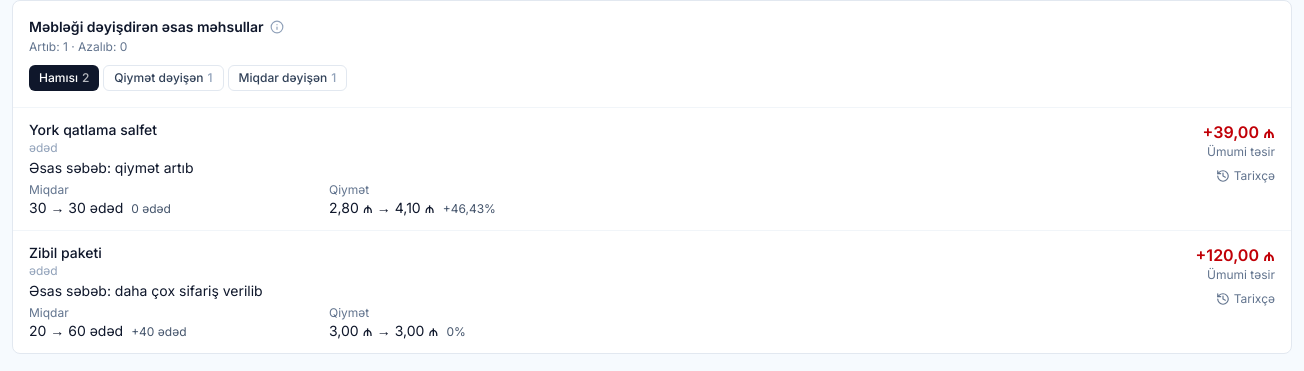
Test: the filters › keeps a price-only change out of the quantity filter
Step 1. Click the button "Miqdar dəyişən1" → (287, 78), box x1=228 y1=65 x2=347 y2=91
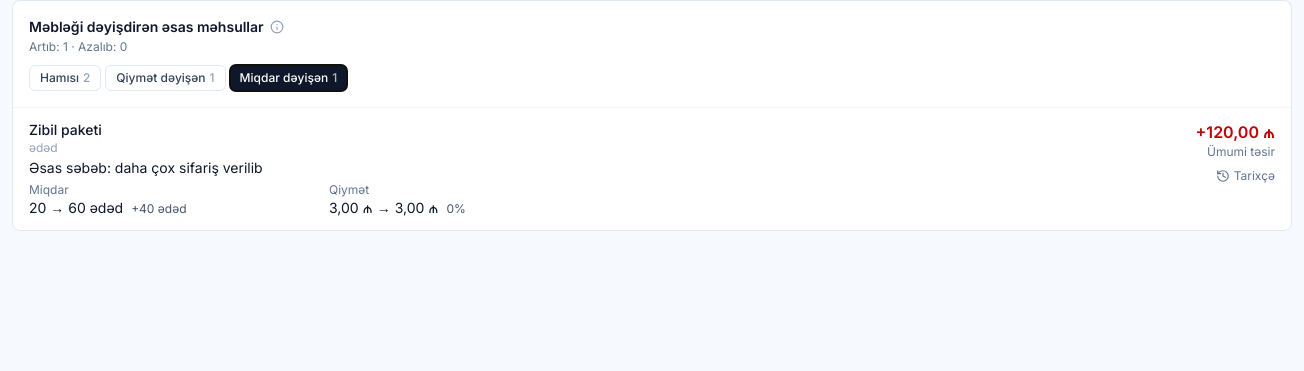
Expected: the text "Zibil paketi" is shown, x1=29 y1=120 x2=102 y2=140
Expected: the button "York qatlama salfet" is gone
